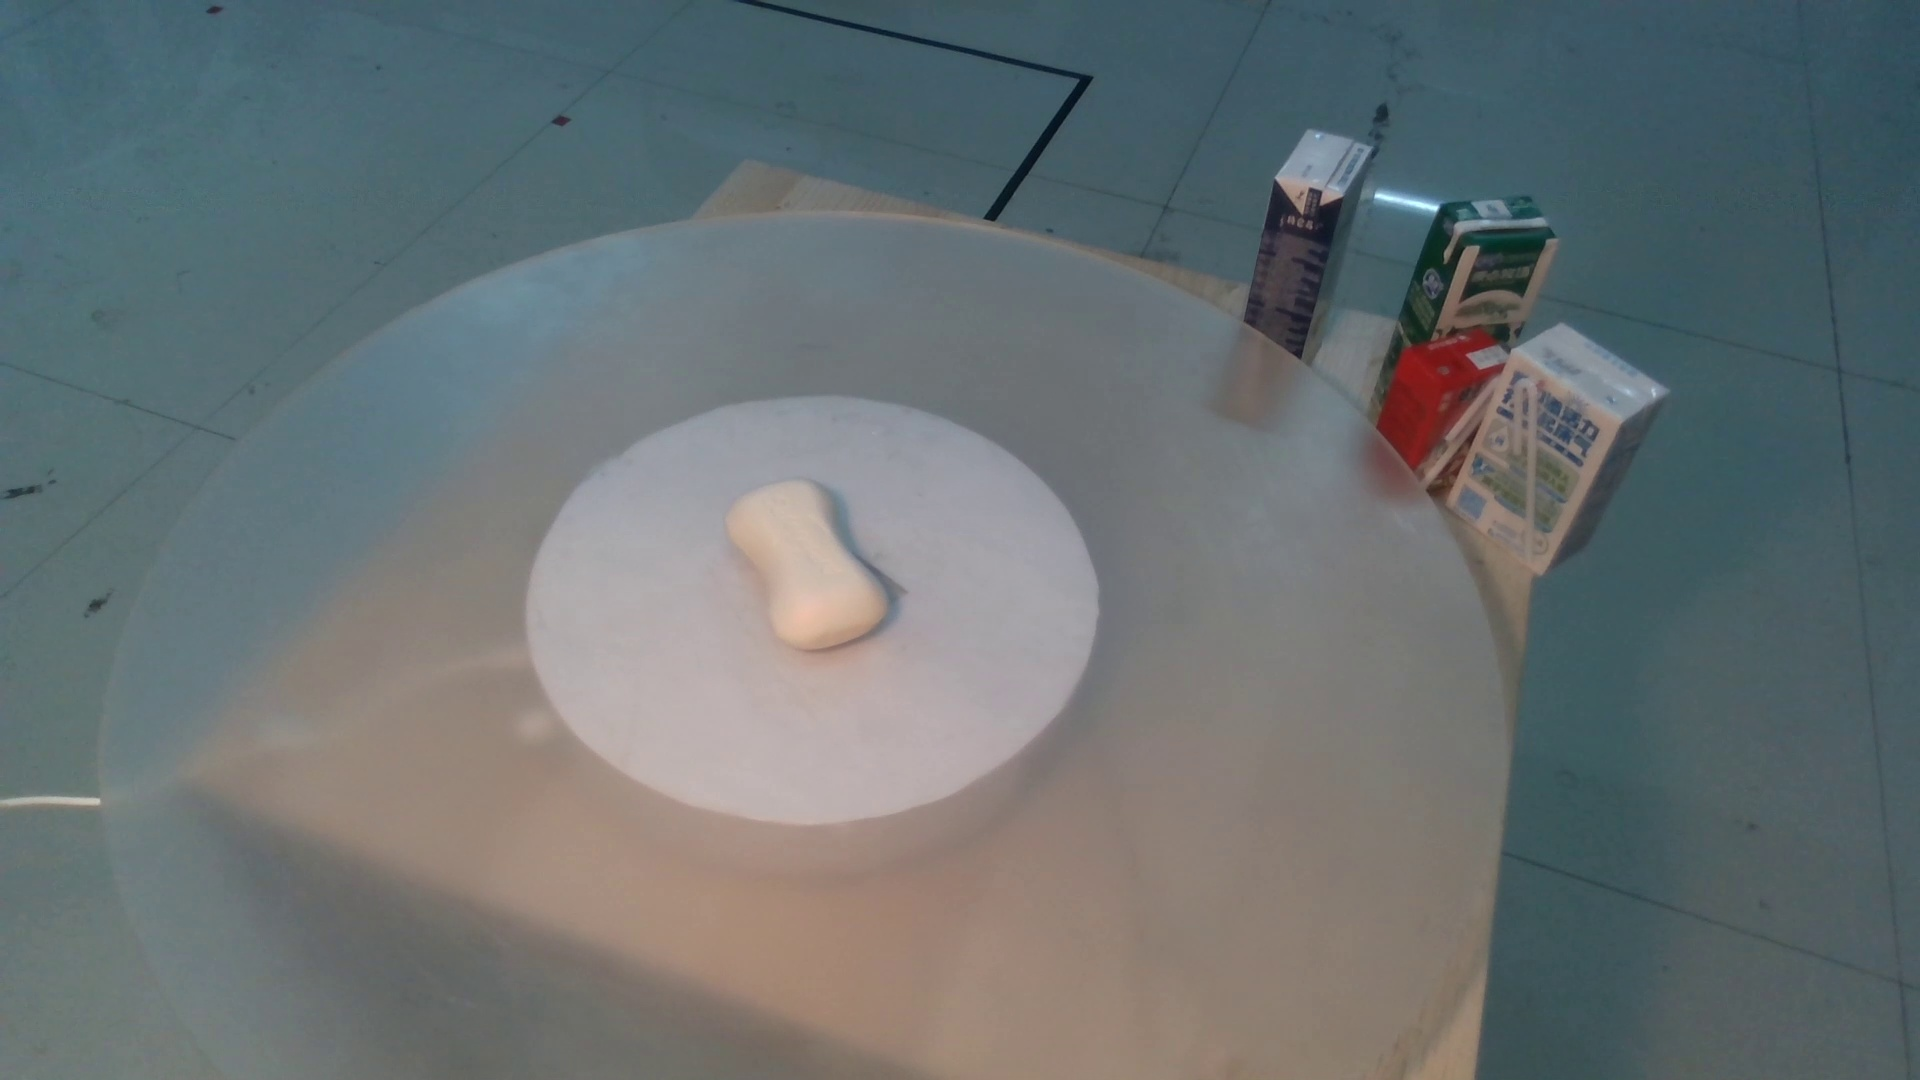CA003_1: (675, 455, 926, 651)
